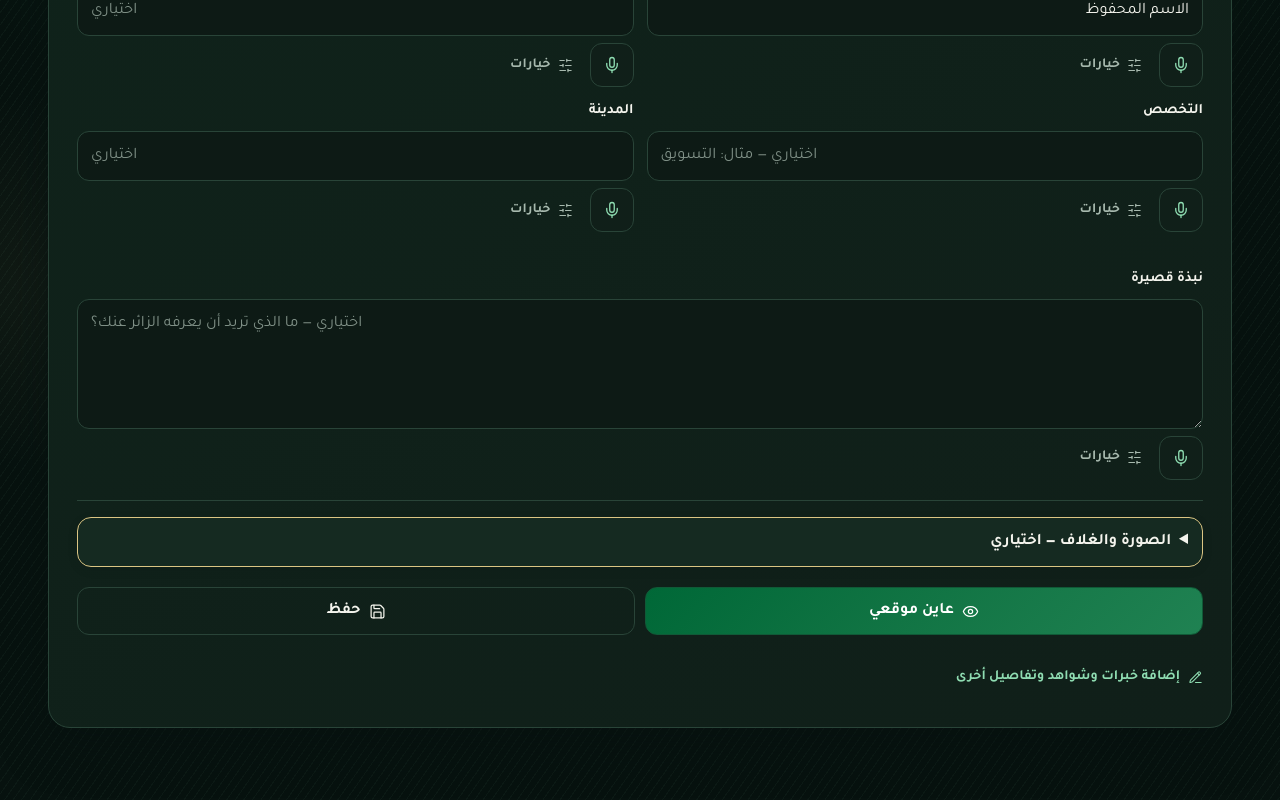
Test: member creation and existing editor — local DOM/mock API only › shows three primary destinations and optional basics without losing old media or private fields
(page scrolled)
Click the button "عاين موقعي".
click(924, 612)  # box [645,588,1203,636]
(page scrolled)
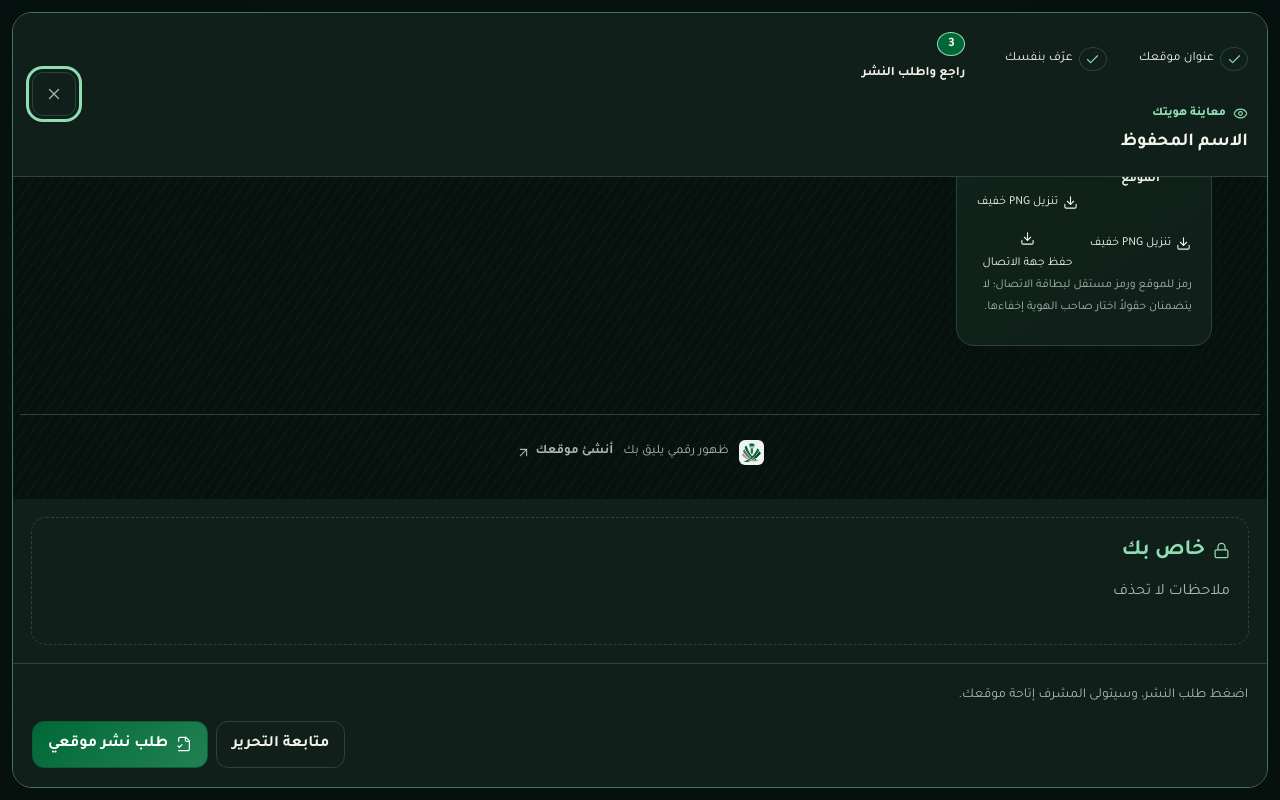
Expected: the dialog with class "dashboard-preview-modal" is shown
Expected: the list with class "member-creation-steps" below "أنشئ موقعك، عاينه، ثم اطلب نشره." is shown, [315,336,1203,364]
Expected: the text "ملاحظات لا تحذف" is shown, [1113,584,1230,600]
